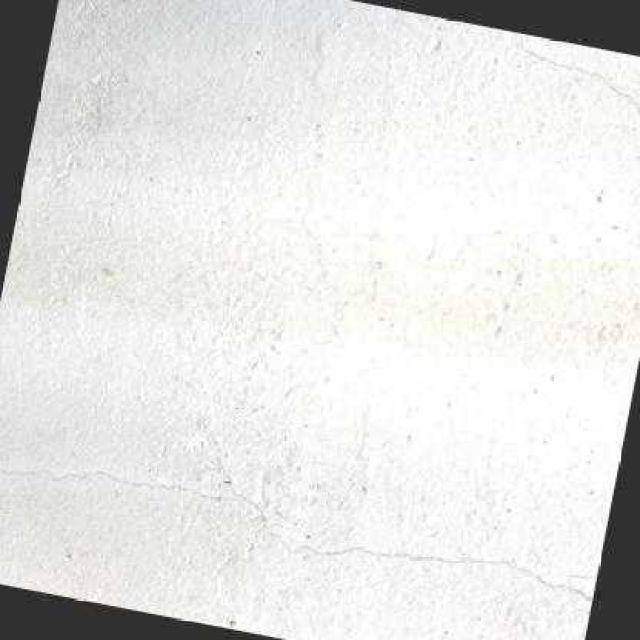D00: (0, 465, 593, 606), (508, 31, 640, 118)
